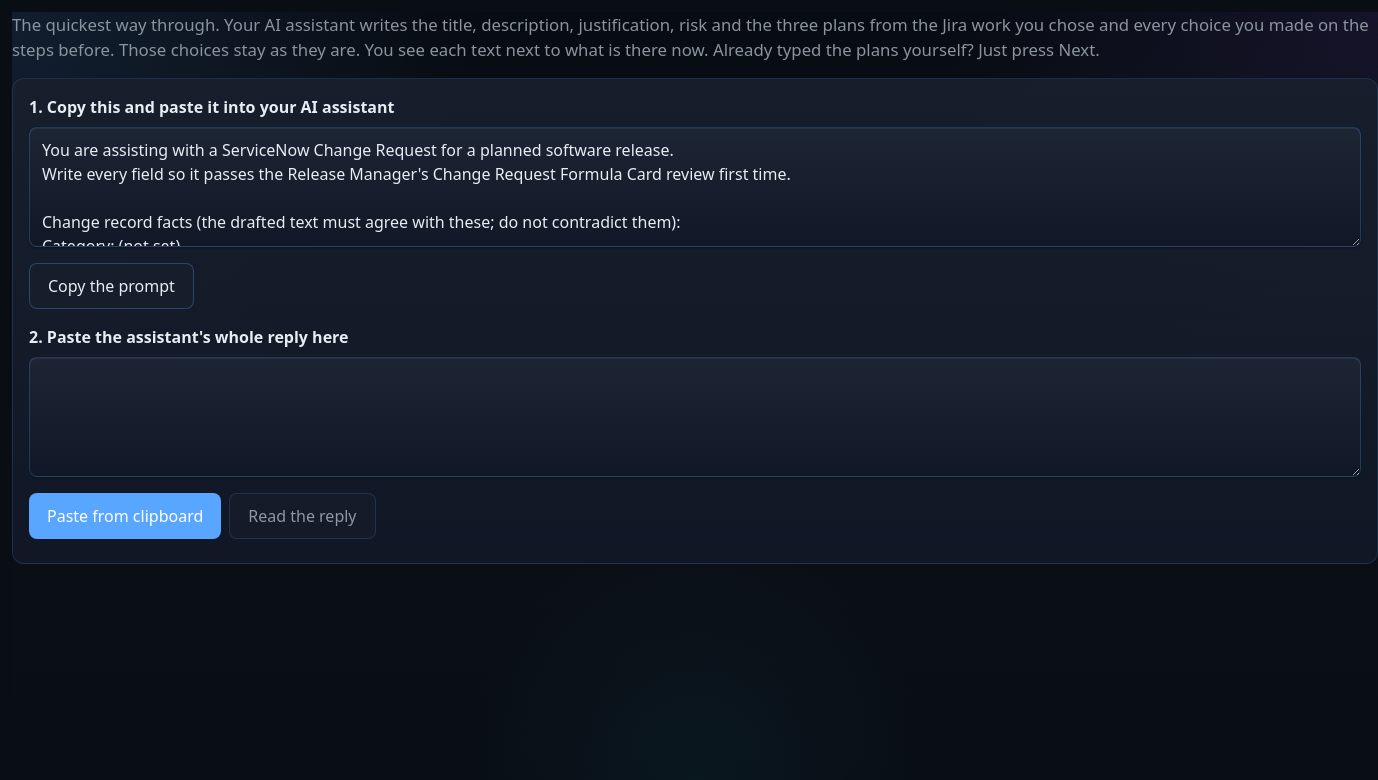
Scenario: AiDraftStep › says plainly when the paste is not the reply, and fills nothing
Type "hello" into the text box labelled "2. Paste the assistant's whole reply here" at point(695, 417), box left=29, top=357, right=1361, bottom=477
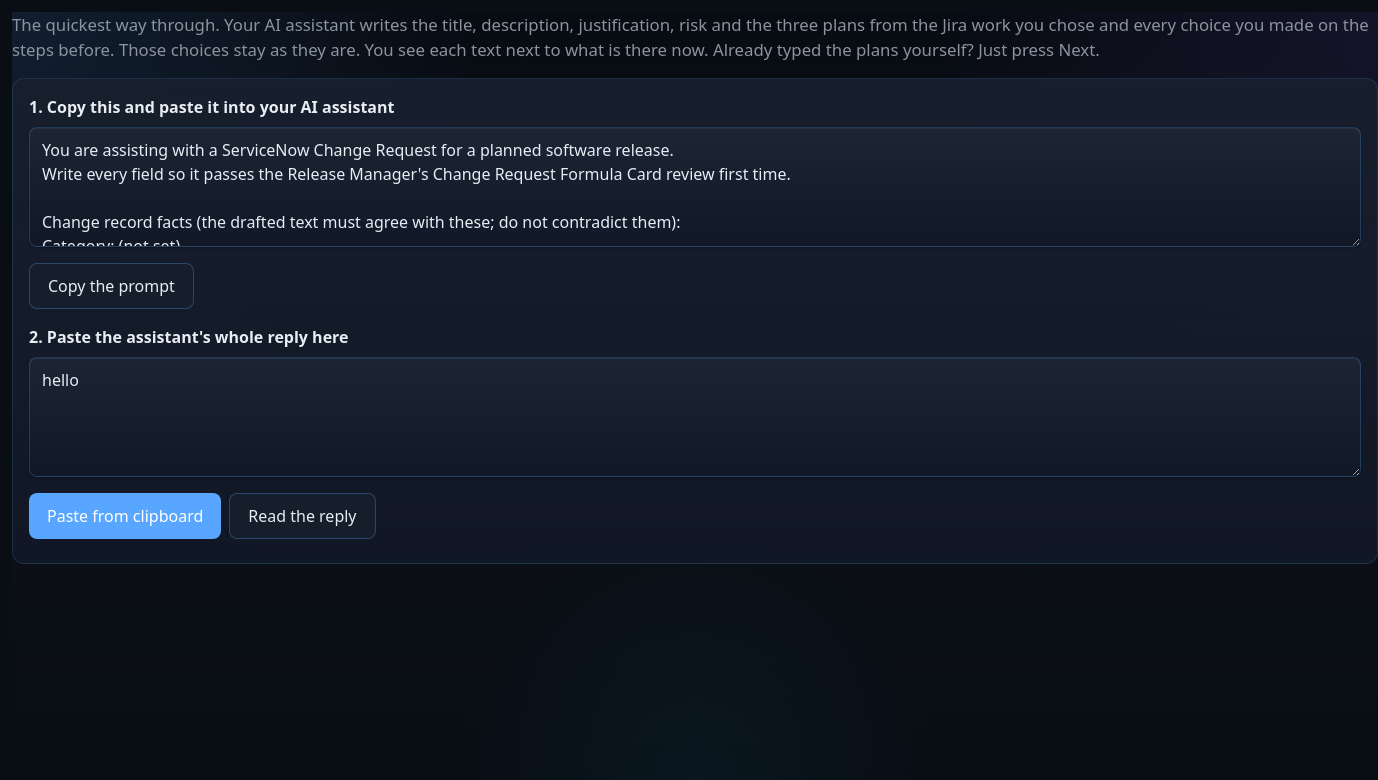
Click the button "Read the reply" at point(302, 516), box left=229, top=493, right=376, bottom=539
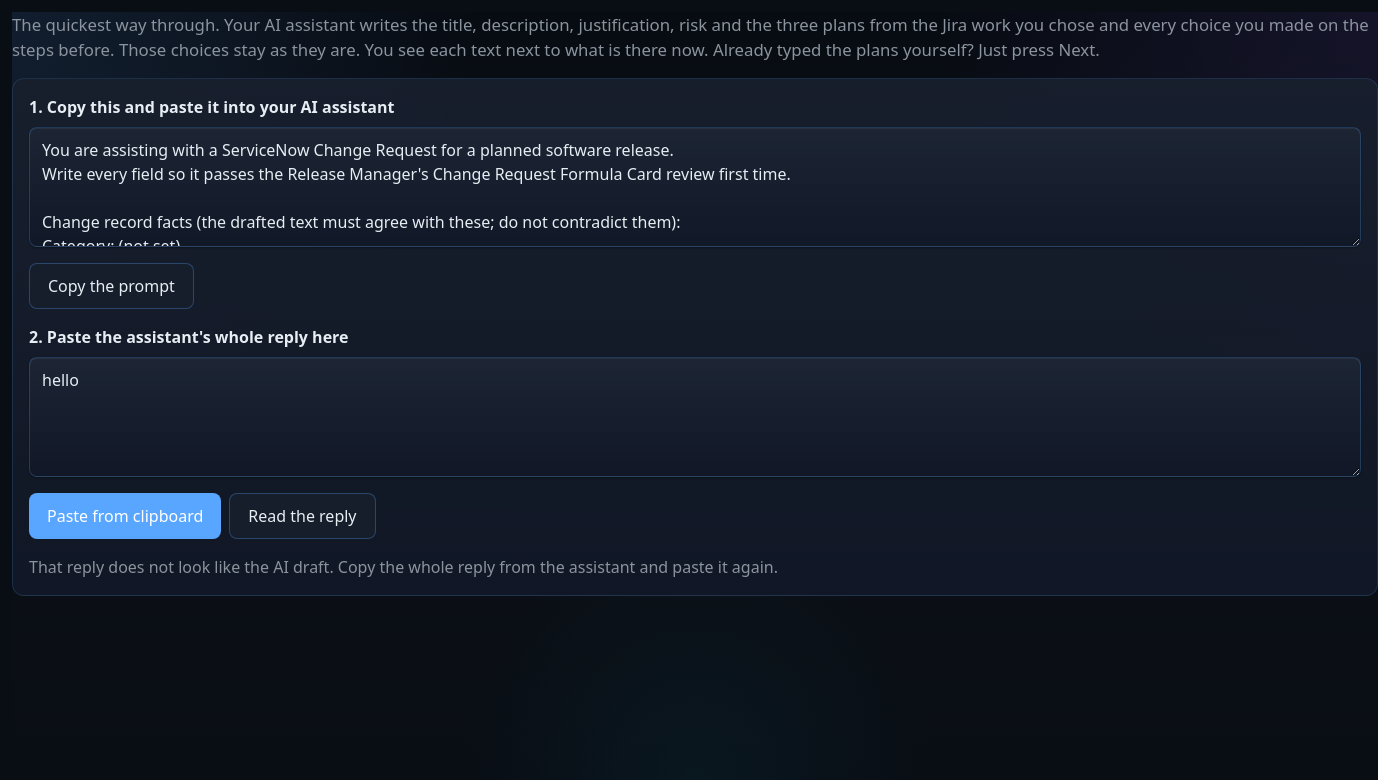
Expected: the text "does not look like the AI draft" is shown, left=29, top=556, right=778, bottom=578
